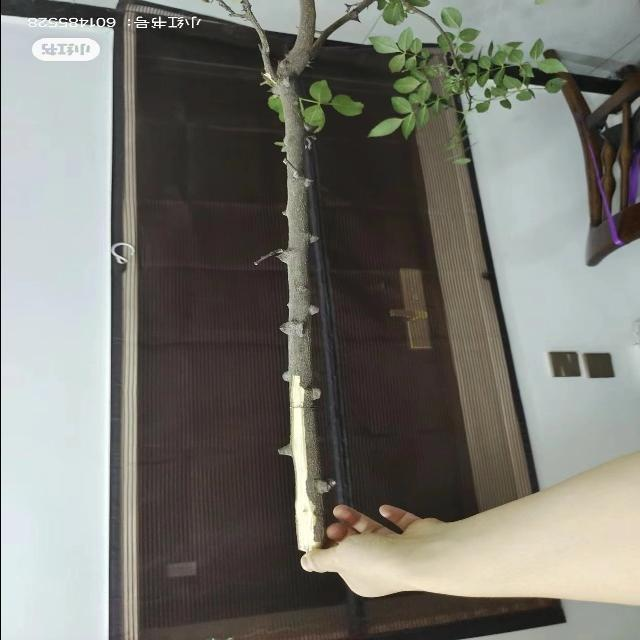branch: (280, 70, 323, 550)
